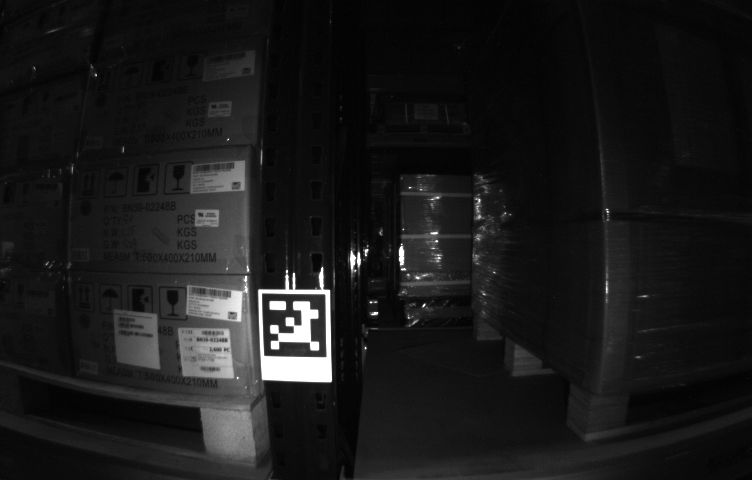True Barcode: (177, 326, 232, 380)
